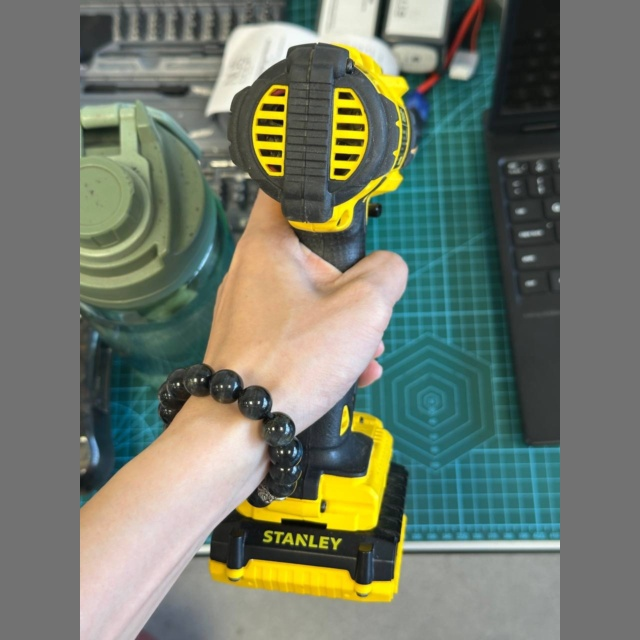drill: (210, 42, 411, 602)
